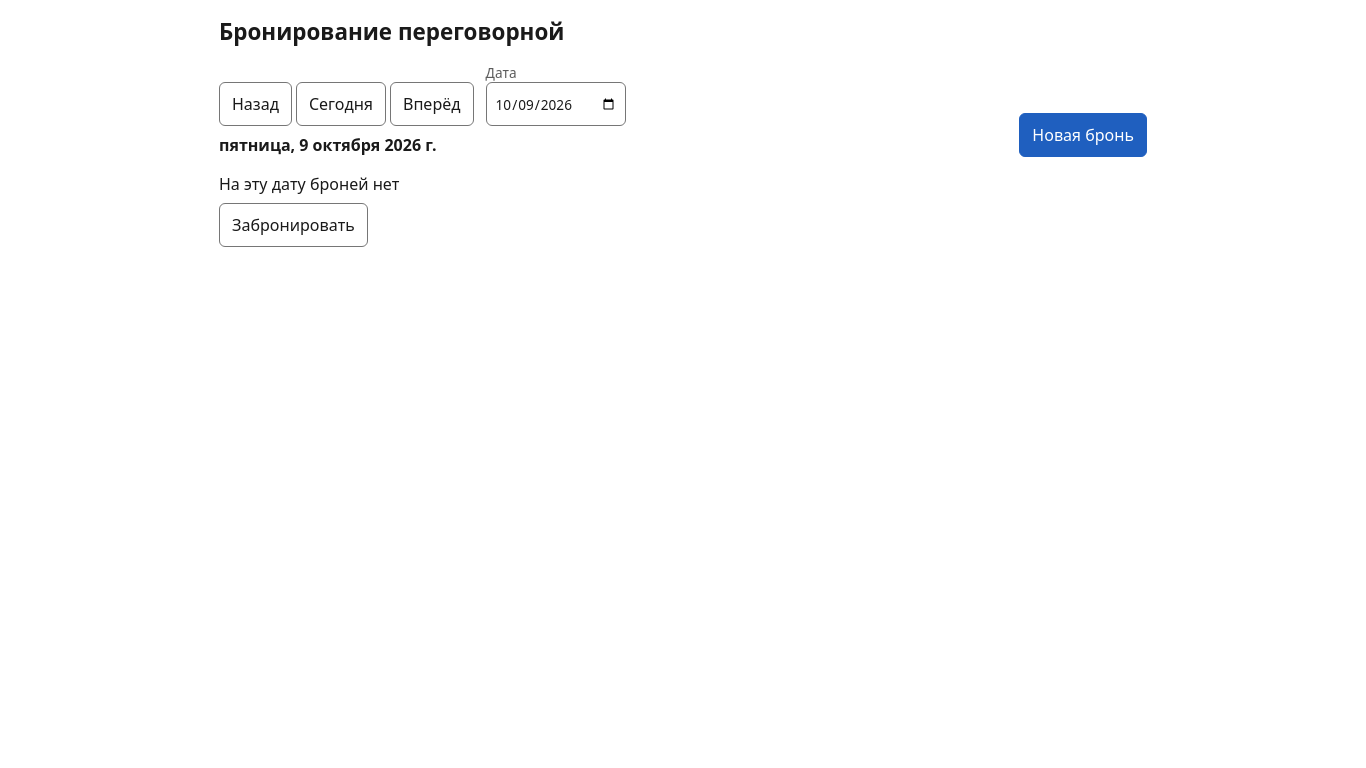
Test: A2: axe — форма брони › A2, F3: отправка пустой формы (сводка, aria-invalid) — нарушений axe 0, ровно один role=alert
Click the button "Новая бронь". click: click(1083, 135)
box: [1019,113,1147,157]
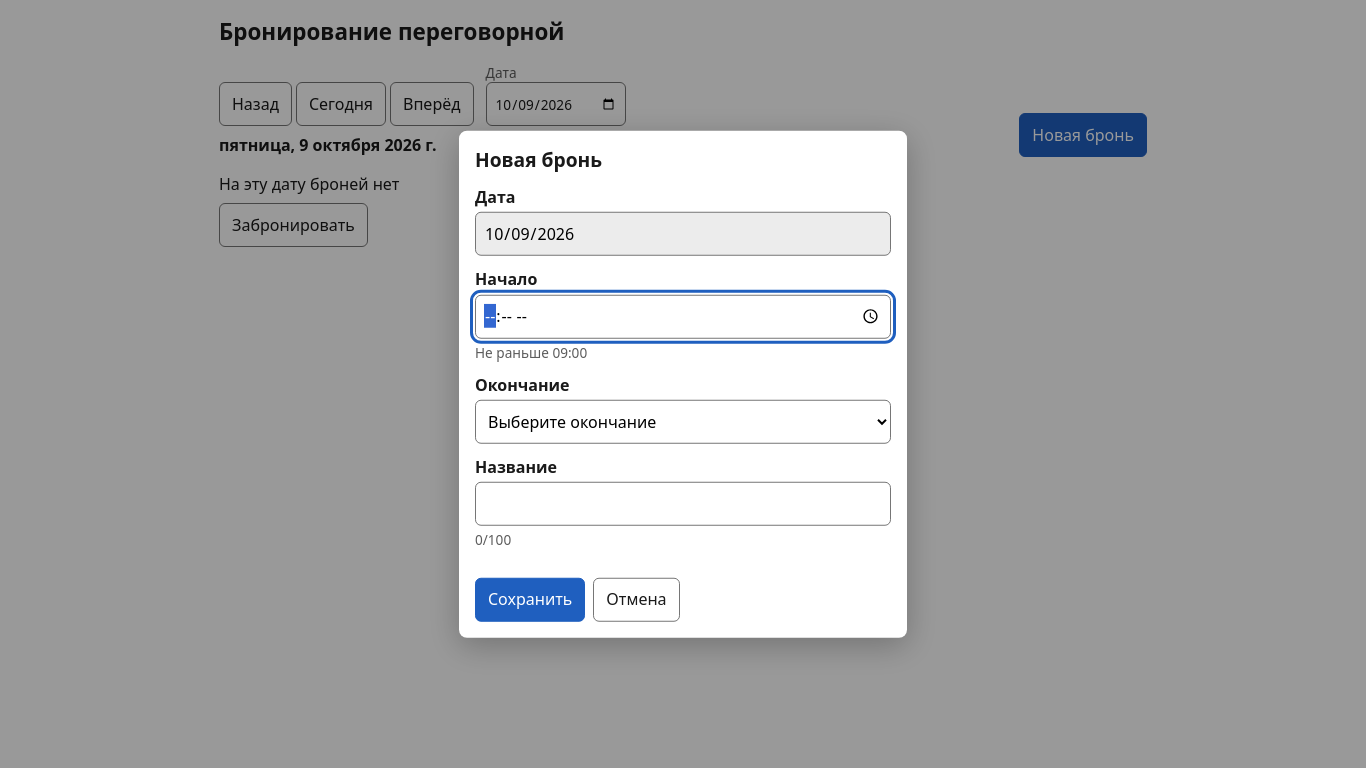
Expected: the dialog "Новая бронь" is shown, [459,131,907,637]
Submit the form, box [475,186,891,621]
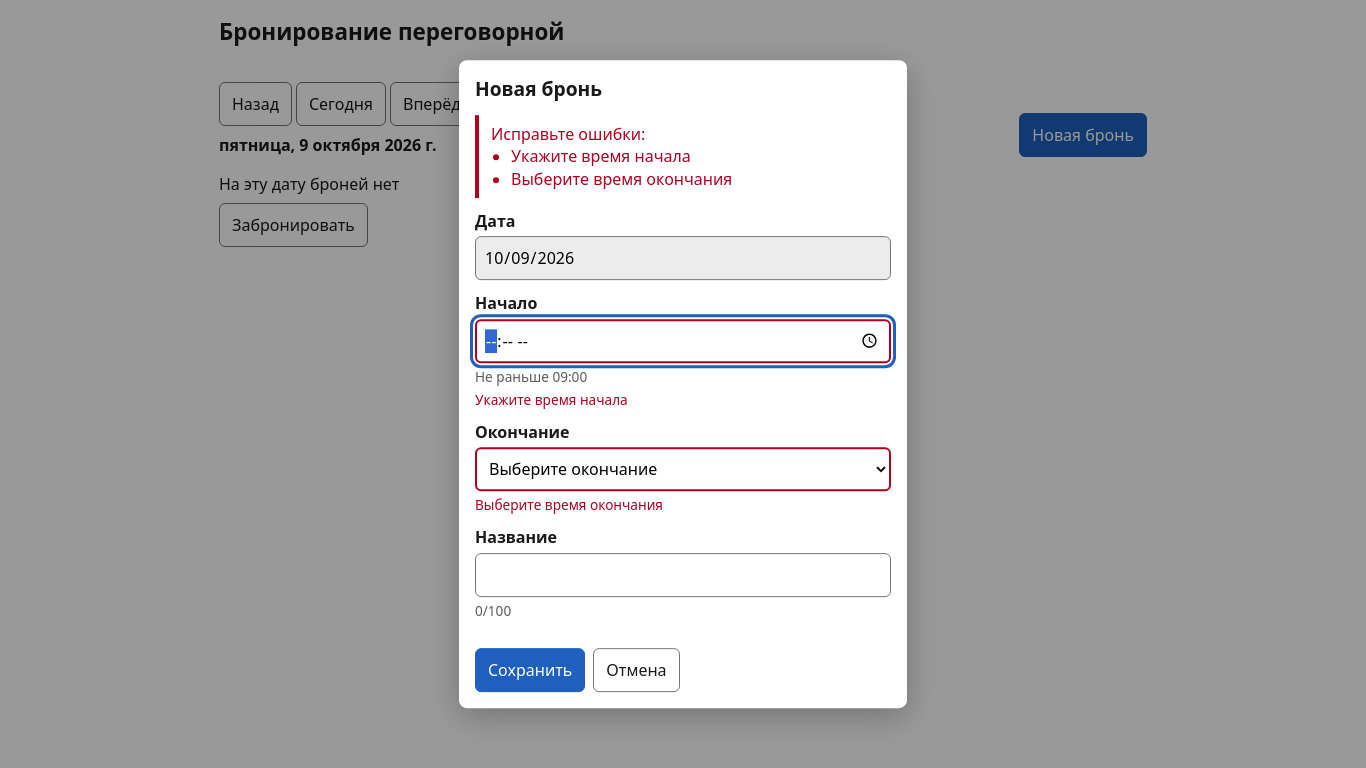
Expected: the message "Исправьте ошибки: Укажите время начала Выберите время окончания" is shown, [475,115,891,198]
